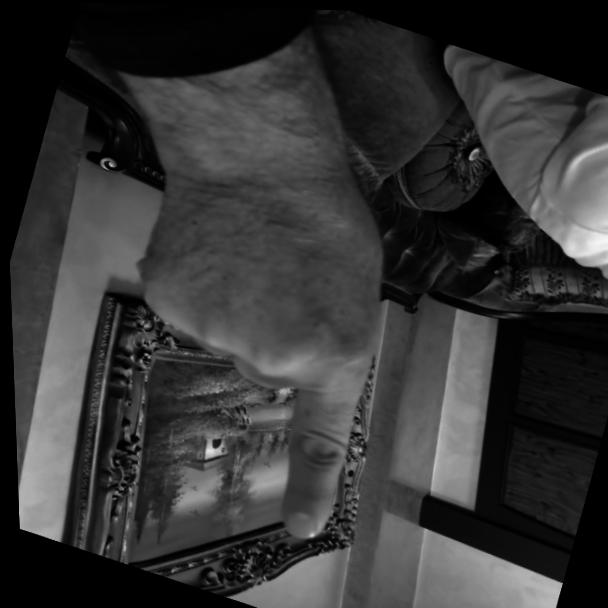one: (49, 92, 464, 564)
